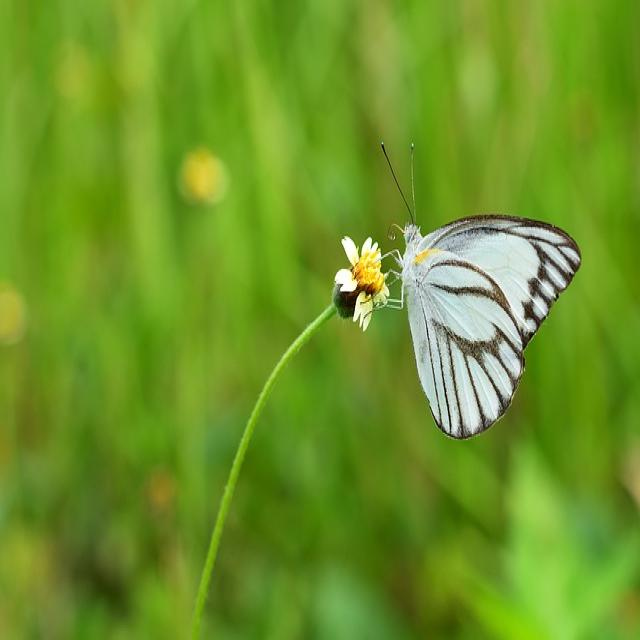butterfly: (373, 215, 582, 440)
